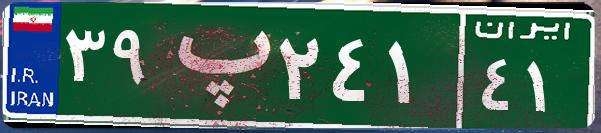1: (385, 28, 445, 110), (525, 38, 570, 115)
2: (273, 28, 330, 110)
3: (57, 26, 110, 107)
4: (330, 28, 385, 110), (475, 38, 525, 113)
9: (110, 28, 158, 105)
پ: (158, 15, 273, 115)
